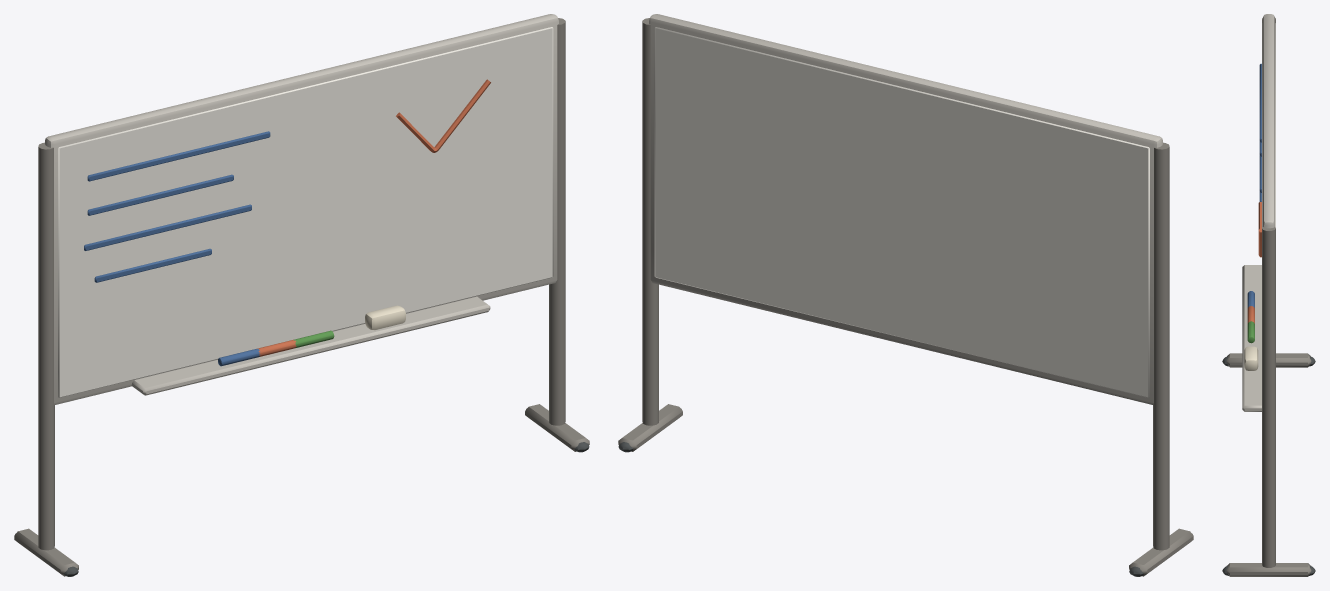
The model's file is whiteboard.glb.
3 views of the same model, side by side, from view 1: azimuth 30°, elevation 25°; view 2: azimuth 150°, elevation 25°; view 3: azimuth 270°, elevation 25° (orthographic). The views are drawn at different scales.
Parts seen in each view (by area): view 1: sheet, steel, steel_dark, sign_blue, food_c, cream; view 2: sheet, steel_dark, steel; view 3: steel_dark, steel, sign_blue, sheet, cream, food_c, rubber, leaf.
Boxes of the visible parts, x1=… form: sheet: x1=58, y1=27, x2=553, y2=397; steel: x1=45, y1=14, x2=558, y2=405; steel_dark: x1=14, y1=18, x2=589, y2=576; sign_blue: x1=84, y1=131, x2=270, y2=366; food_c: x1=257, y1=79, x2=490, y2=356; cream: x1=365, y1=305, x2=405, y2=330; sheet: x1=654, y1=27, x2=1149, y2=397; steel_dark: x1=618, y1=18, x2=1193, y2=576; steel: x1=649, y1=14, x2=1162, y2=405; steel_dark: x1=1226, y1=18, x2=1311, y2=576; steel: x1=1242, y1=14, x2=1275, y2=411; sign_blue: x1=1247, y1=63, x2=1261, y2=307; sheet: x1=1262, y1=23, x2=1275, y2=227; cream: x1=1244, y1=346, x2=1258, y2=370; food_c: x1=1247, y1=202, x2=1261, y2=323; rubber: x1=1222, y1=356, x2=1315, y2=575; leaf: x1=1247, y1=321, x2=1254, y2=343.
Bounding box in the file's own units: 1.45 × 1.1 × 0.264.
